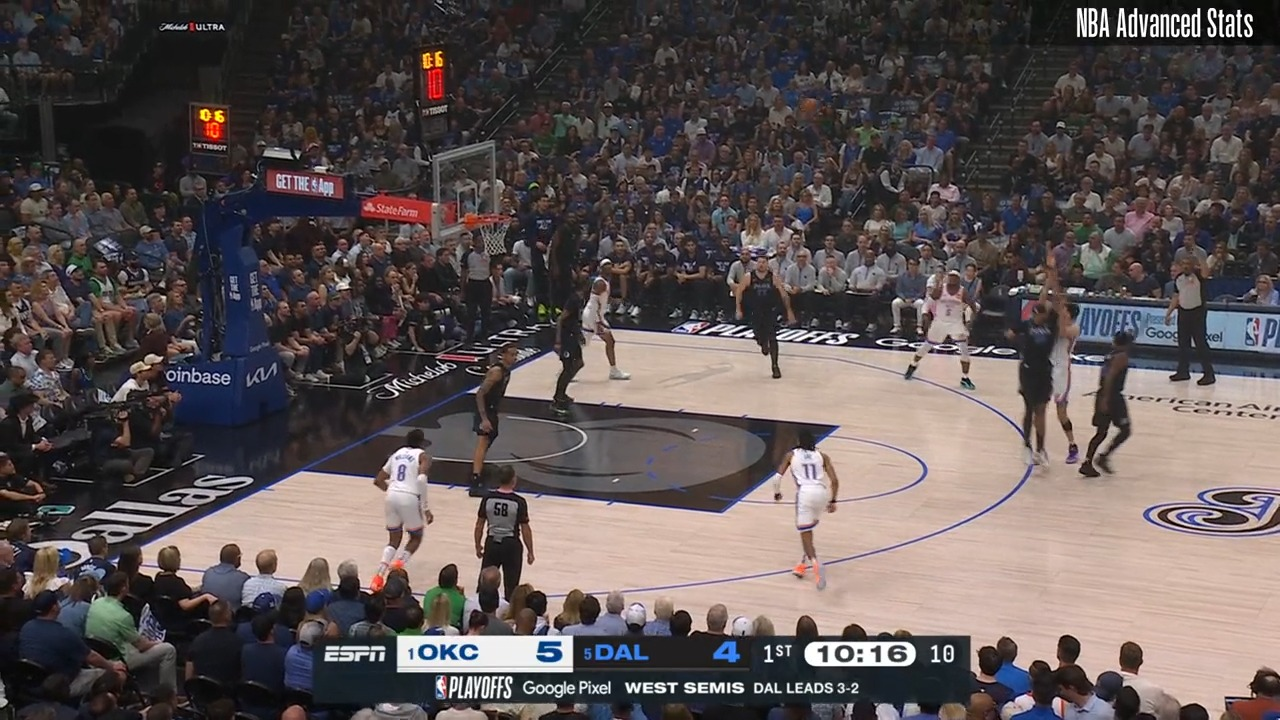basketball: (800, 96, 821, 119)
